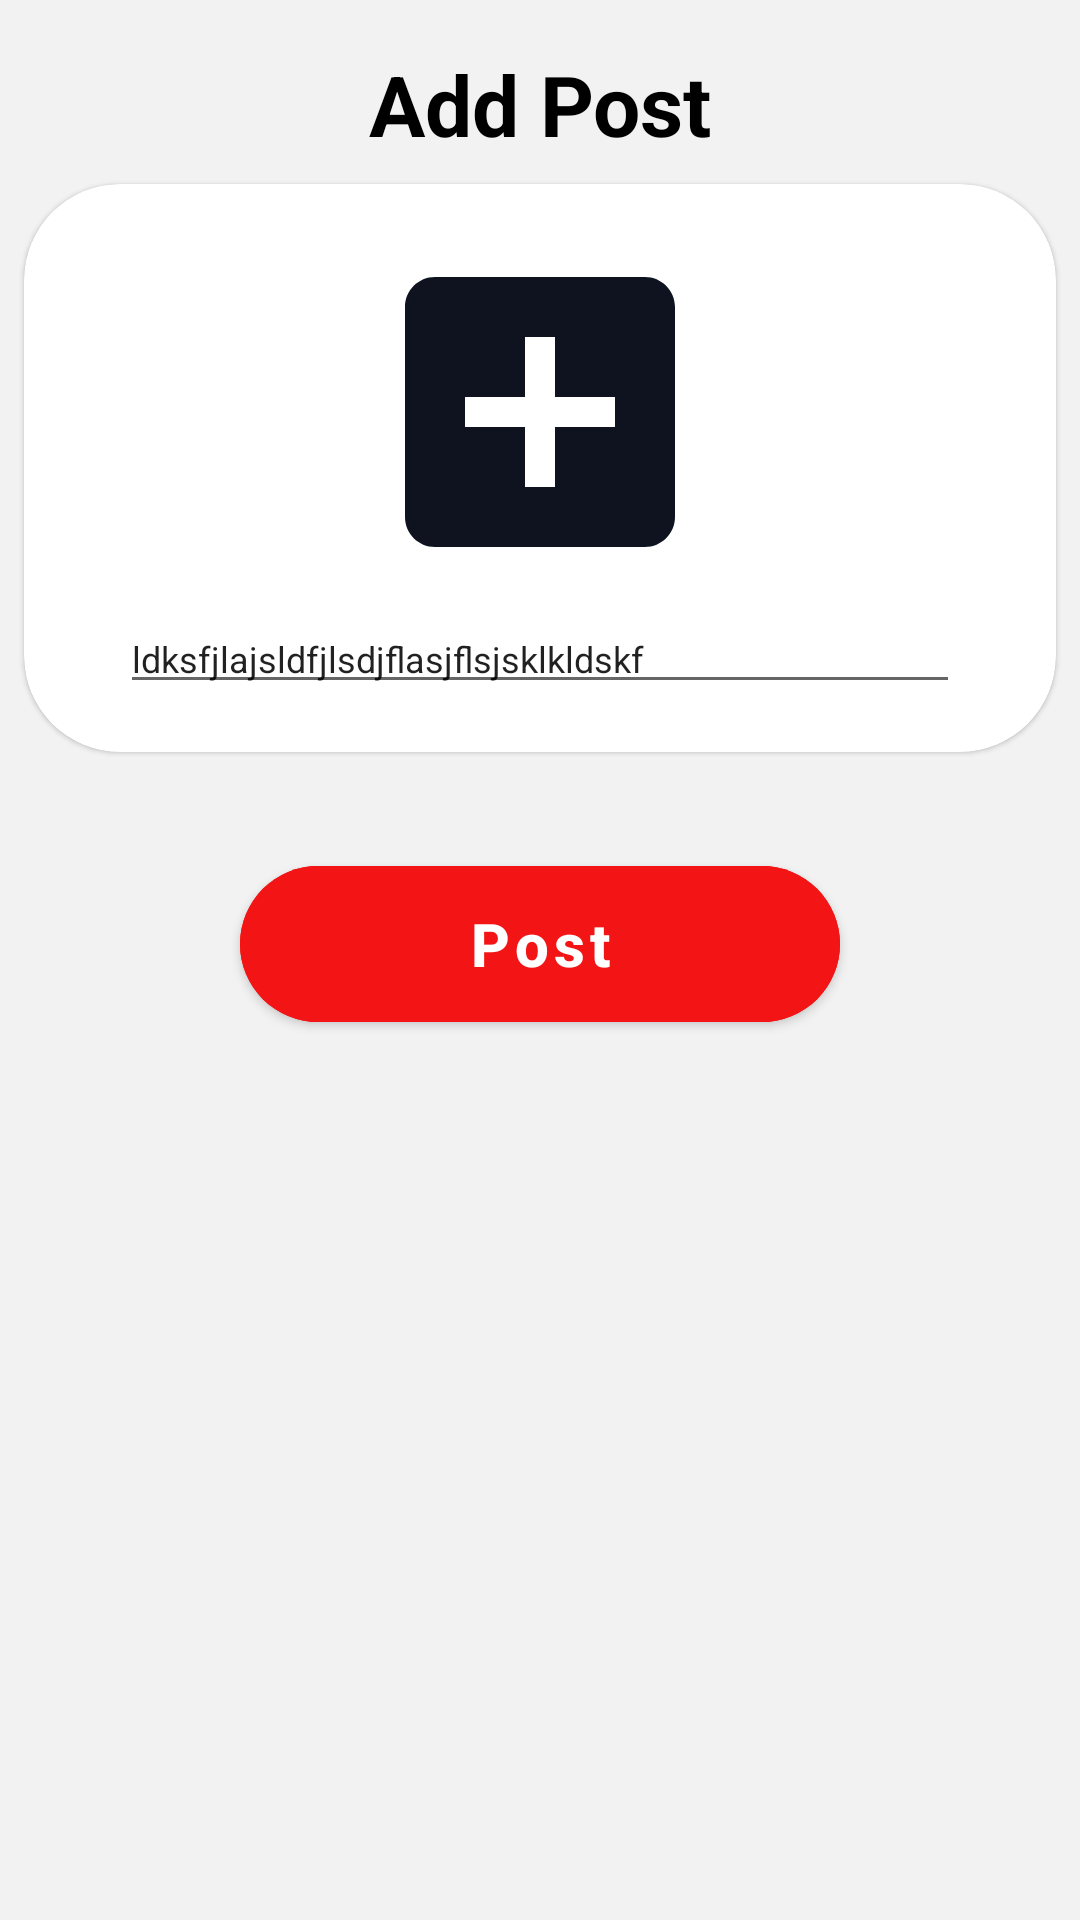

Where to tap for icons on this 1080 x 1920 app screen, as (x=x, y=y):
add box: (x=540, y=412)
